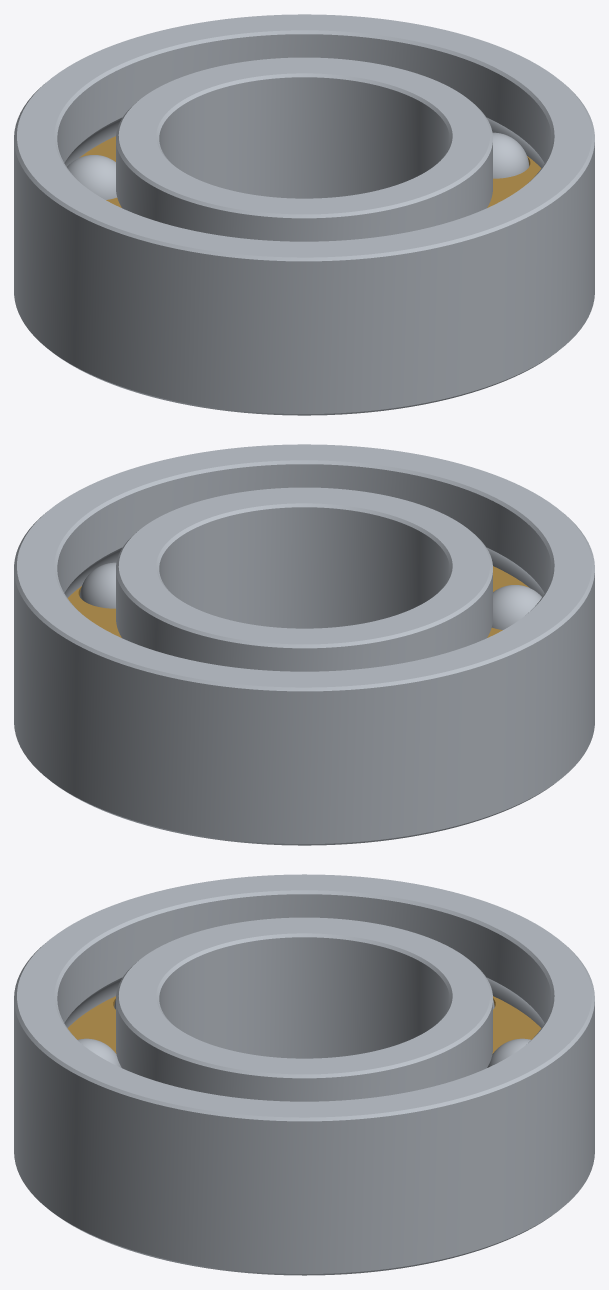
The model's file is morphloom-project.glb.
3 views of the same model, one above another, from view 1: azimuth 30°, elevation 25°; view 2: azimuth 150°, elevation 25°; view 3: azimuth 270°, elevation 25° (orthographic).
Parts seen in each view (by area): view 1: outer_race, inner_race, ball_0005, cage, ball_0000; view 2: outer_race, inner_race, ball_0003, cage, ball_0000; view 3: outer_race, inner_race, cage.
Boxes of the visible parts, bbox=[...] form: outer_race: bbox=[14, 14, 594, 415]; inner_race: bbox=[116, 57, 492, 241]; ball_0005: bbox=[67, 155, 117, 199]; cage: bbox=[79, 136, 541, 207]; ball_0000: bbox=[492, 132, 529, 178]; outer_race: bbox=[14, 444, 594, 845]; inner_race: bbox=[116, 487, 492, 671]; ball_0003: bbox=[491, 585, 541, 629]; cage: bbox=[67, 566, 529, 637]; ball_0000: bbox=[79, 562, 116, 608]; outer_race: bbox=[14, 874, 594, 1275]; inner_race: bbox=[116, 917, 492, 1101]; cage: bbox=[67, 996, 541, 1053].
Size of the model in its own units: 0.04 by 0.012 by 0.04.
